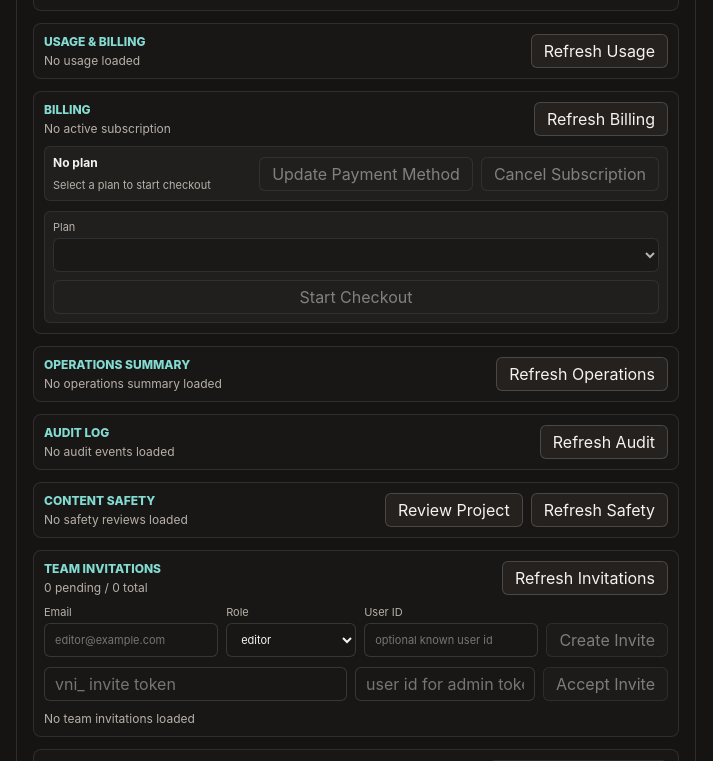
it: Studio App › loads operations summary through the production API
(page scrolled)
Click the button "Refresh Operations" at (582, 374), box [496,357,668,391]
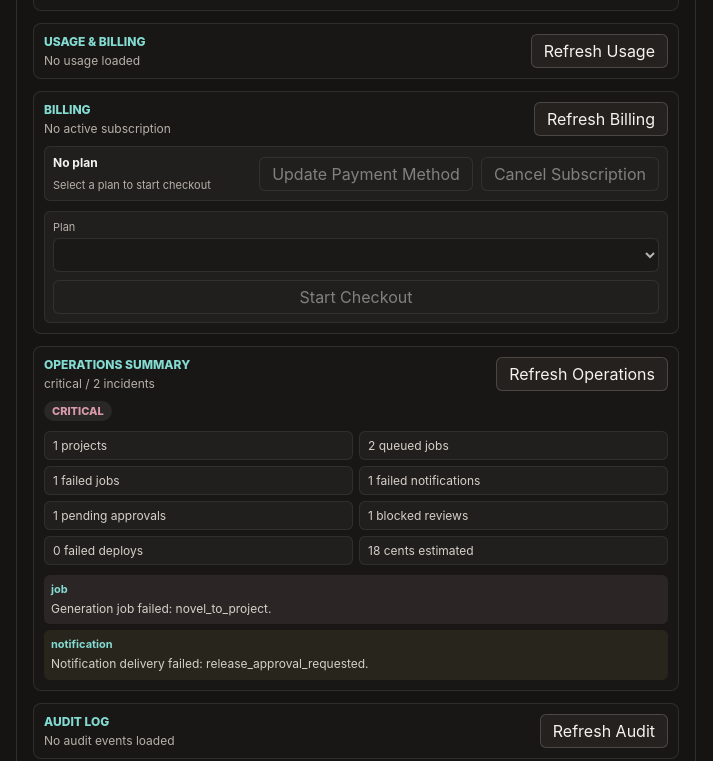
Check: the text "critical / 2 incidents" is shown, box [44,376,155,391]
Check: the text "2 queued jobs" is shown, box [359,431,668,460]
Check: the text "1 failed notifications" is shown, box [359,466,668,495]
